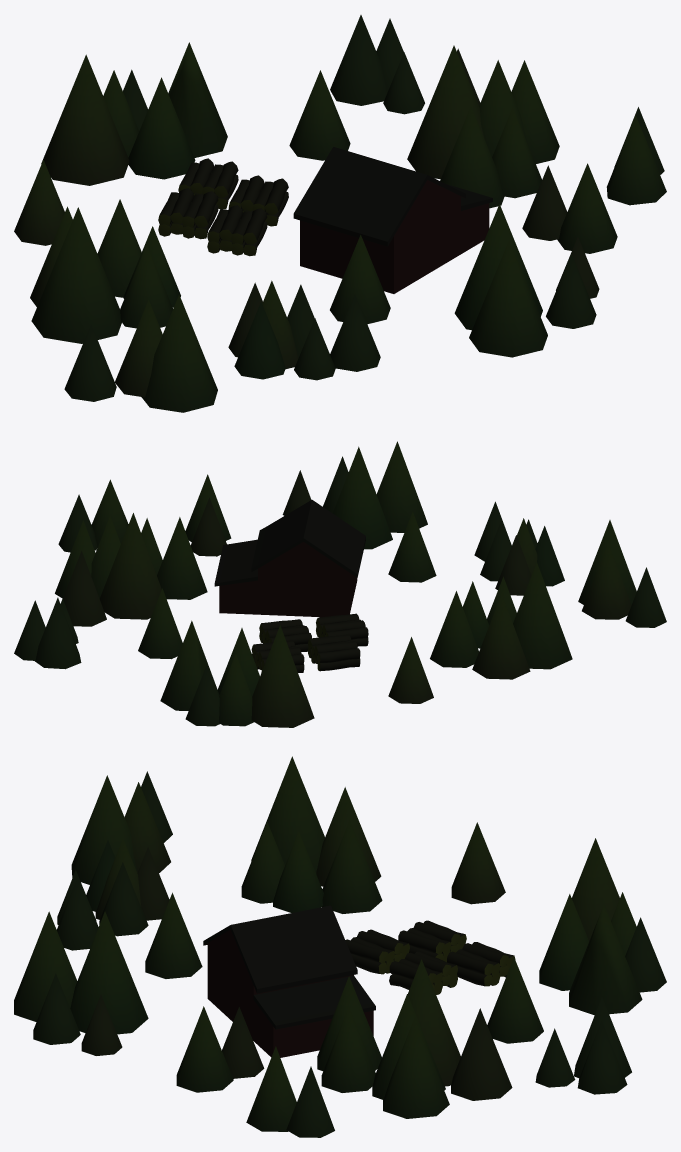
The model's file is SM_SawMill.fbx.
The picture shows the model from 3 angles, top to bottom: view 1: azimuth 30°, elevation 25°; view 2: azimuth 150°, elevation 25°; view 3: azimuth 270°, elevation 25°; orthographic projection. The views are drawn at different scales.
Parts seen in each view (by area): view 1: SM_SawMill; view 2: SM_SawMill; view 3: SM_SawMill.
Boxes of the visible parts, x1,y1,x2,y2 form: SM_SawMill: (14, 15, 666, 412); SM_SawMill: (14, 441, 666, 727); SM_SawMill: (14, 756, 666, 1137).
Bounding box in the file's own units: 187 × 33.15 × 163.
